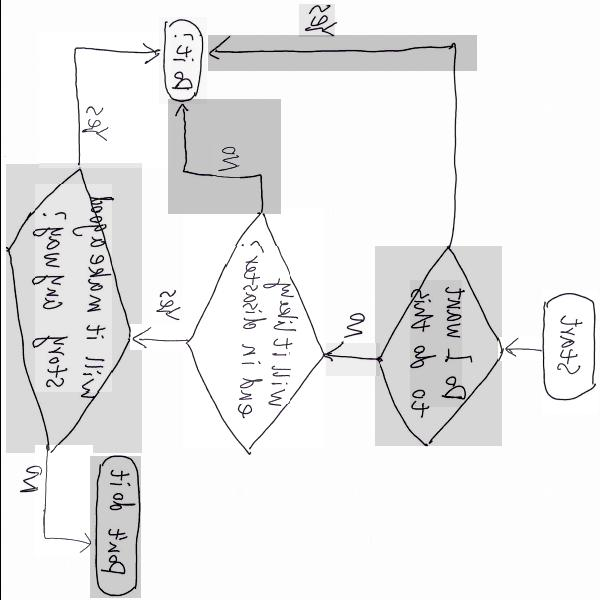arrow: (38, 32, 170, 168), (167, 99, 280, 214), (207, 35, 476, 71), (34, 445, 92, 557), (324, 343, 378, 376), (129, 324, 187, 350), (496, 337, 540, 361)
decision: (5, 164, 141, 452), (182, 208, 323, 448), (374, 246, 501, 446)
terminator: (89, 456, 140, 597), (541, 290, 597, 414), (158, 17, 206, 104)
text: (34, 184, 111, 392), (224, 246, 288, 404), (409, 280, 461, 407), (101, 468, 128, 583), (553, 320, 589, 382), (168, 34, 191, 91), (298, 4, 334, 37), (86, 109, 118, 144), (212, 142, 239, 180), (151, 296, 177, 319)
